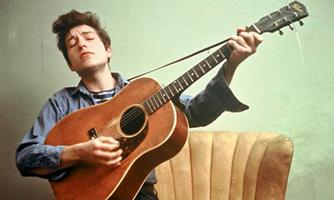person: (14, 10, 266, 200)
